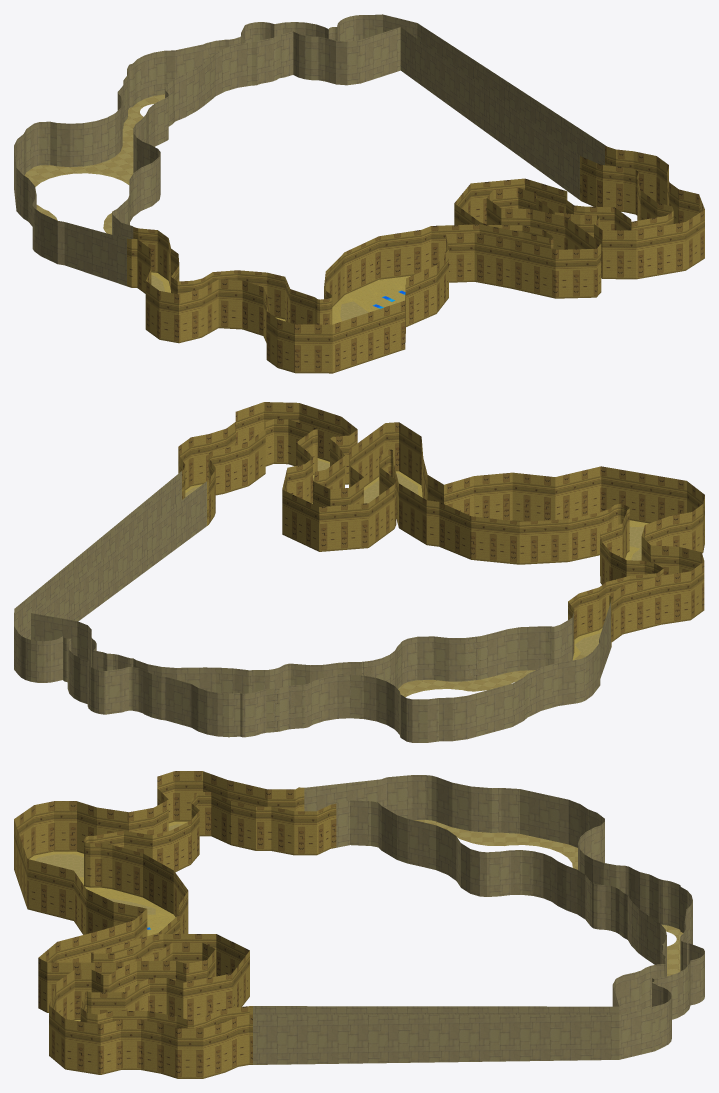
3 views of the same model, one above another, from view 1: azimuth 30°, elevation 25°; view 2: azimuth 150°, elevation 25°; view 3: azimuth 270°, elevation 25° (orthographic). The views are drawn at different scales.
Visible parts, largest first — view 1: polygon4.022, polygon5.024, polygon3.023, polygon0.056; view 2: polygon4.022, polygon5.024, polygon3.023, polygon2.022, polygon0.056; view 3: polygon5.024, polygon4.022, polygon3.023, polygon0.056, polygon2.022.
Part boxes in pixels (x1,y1,x2,y2): polygon4.022: (127, 145, 704, 373); polygon5.024: (14, 14, 604, 286); polygon3.023: (24, 94, 164, 234); polygon0.056: (151, 272, 410, 324); polygon4.022: (178, 402, 704, 653); polygon5.024: (14, 471, 610, 742); polygon3.023: (398, 652, 591, 697); polygon2.022: (185, 460, 644, 653); polygon0.056: (185, 458, 648, 660); polygon5.024: (253, 775, 704, 1064); polygon4.022: (14, 771, 336, 1078); polygon3.023: (414, 820, 683, 976); polygon0.056: (29, 821, 187, 1021); polygon2.022: (35, 824, 182, 914).
Size of the model in its own units: 92898 by 8471 by 104736.
Materials: 6 (6 with a texture image).
